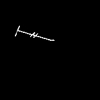treble_crochet: (15, 26, 53, 40)
